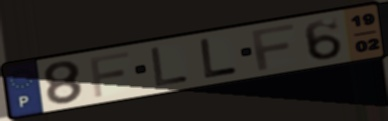6: (301, 17, 345, 62)
8: (41, 60, 85, 106)
F: (249, 22, 297, 72), (87, 49, 132, 99)
L: (148, 45, 192, 89), (198, 36, 240, 81)
